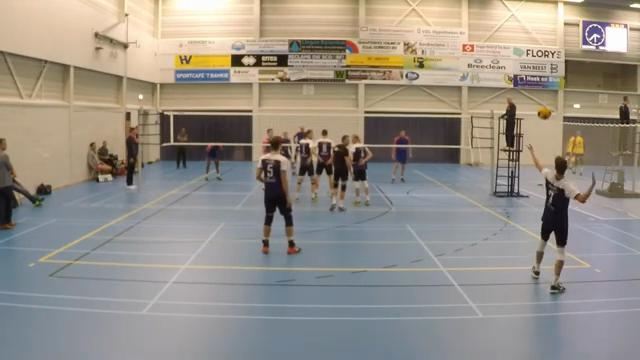battuta: (522, 141, 603, 296)
